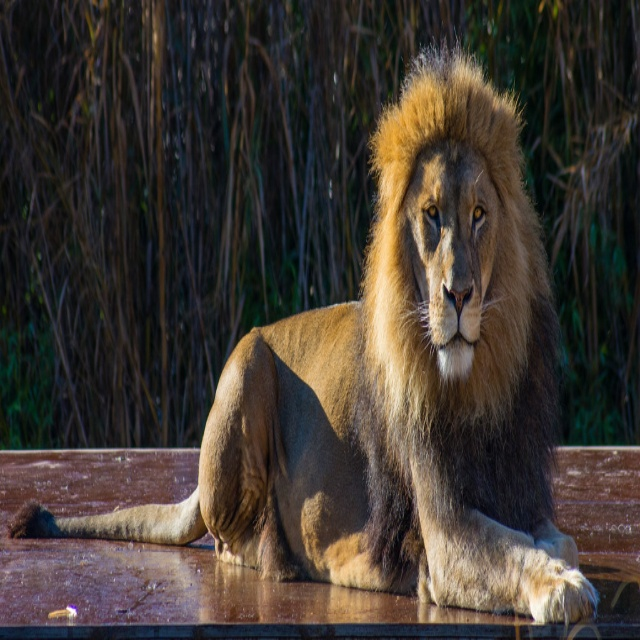Lion: (6, 19, 597, 616)
